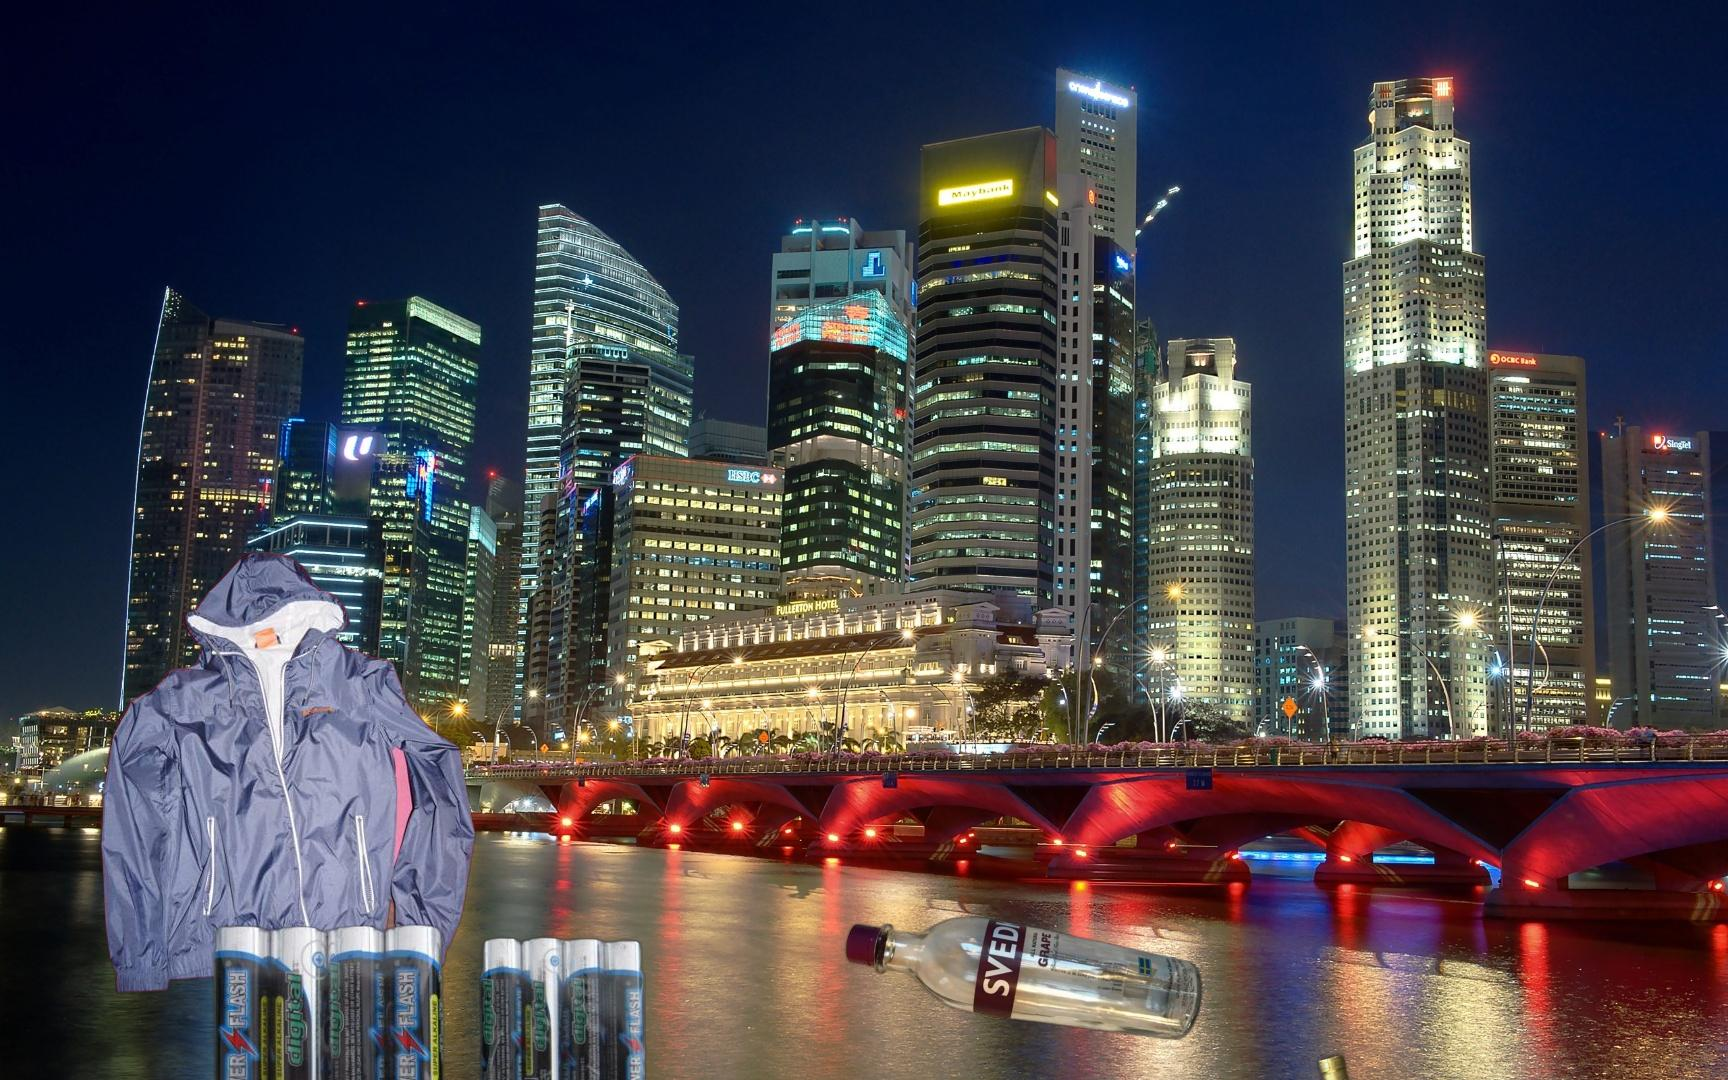battery: (208, 921, 649, 1080)
clothes: (97, 546, 479, 998)
glass: (841, 913, 1207, 1043), (1314, 1046, 1429, 1080)
